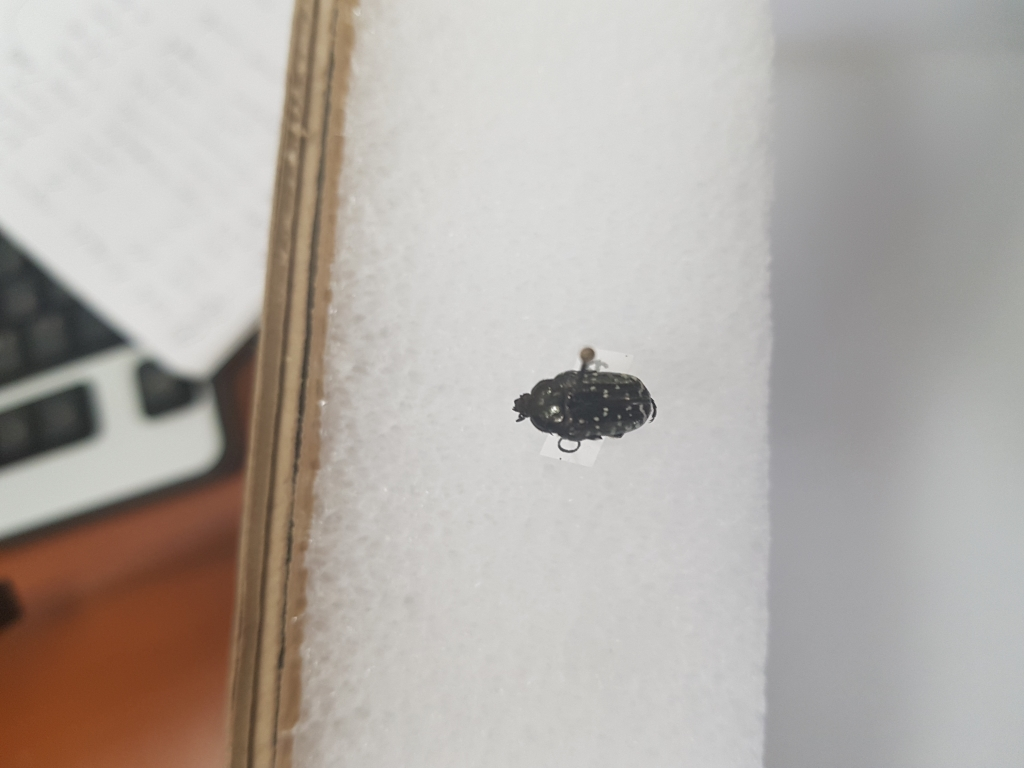Oxythyrea_funesta: (507, 368, 665, 448)
